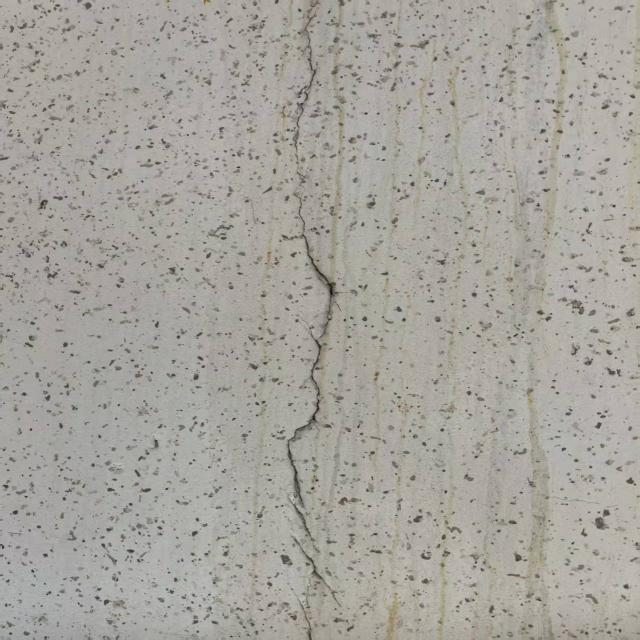crack: (249, 11, 359, 632)
